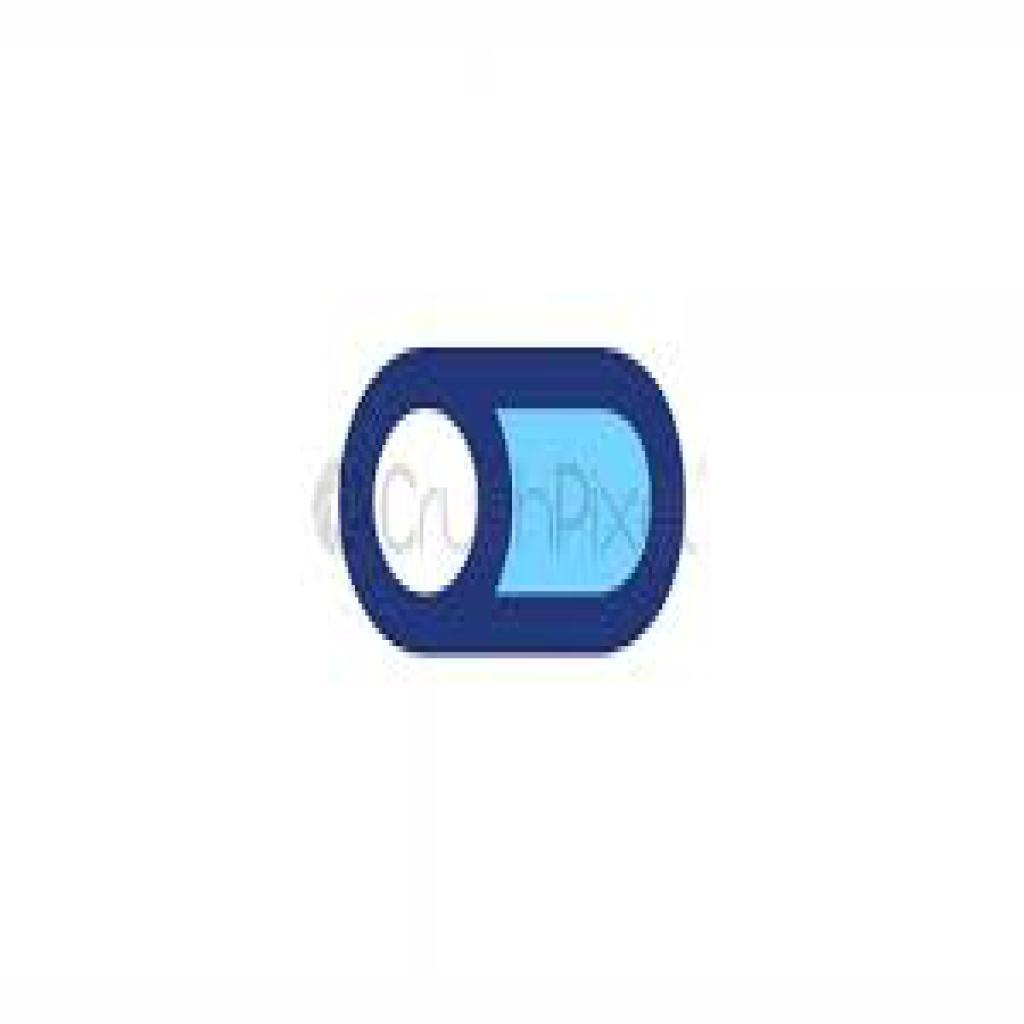switch: (334, 350, 691, 665)
